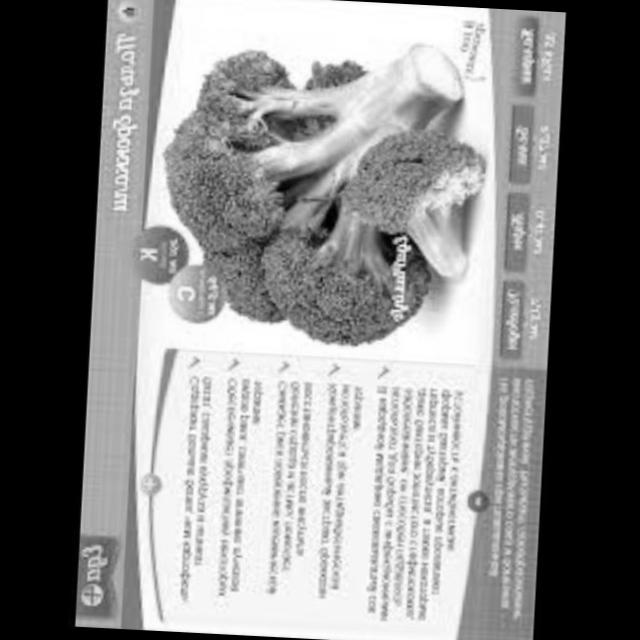bong cai xanh: (148, 20, 502, 376), (338, 130, 486, 306)
